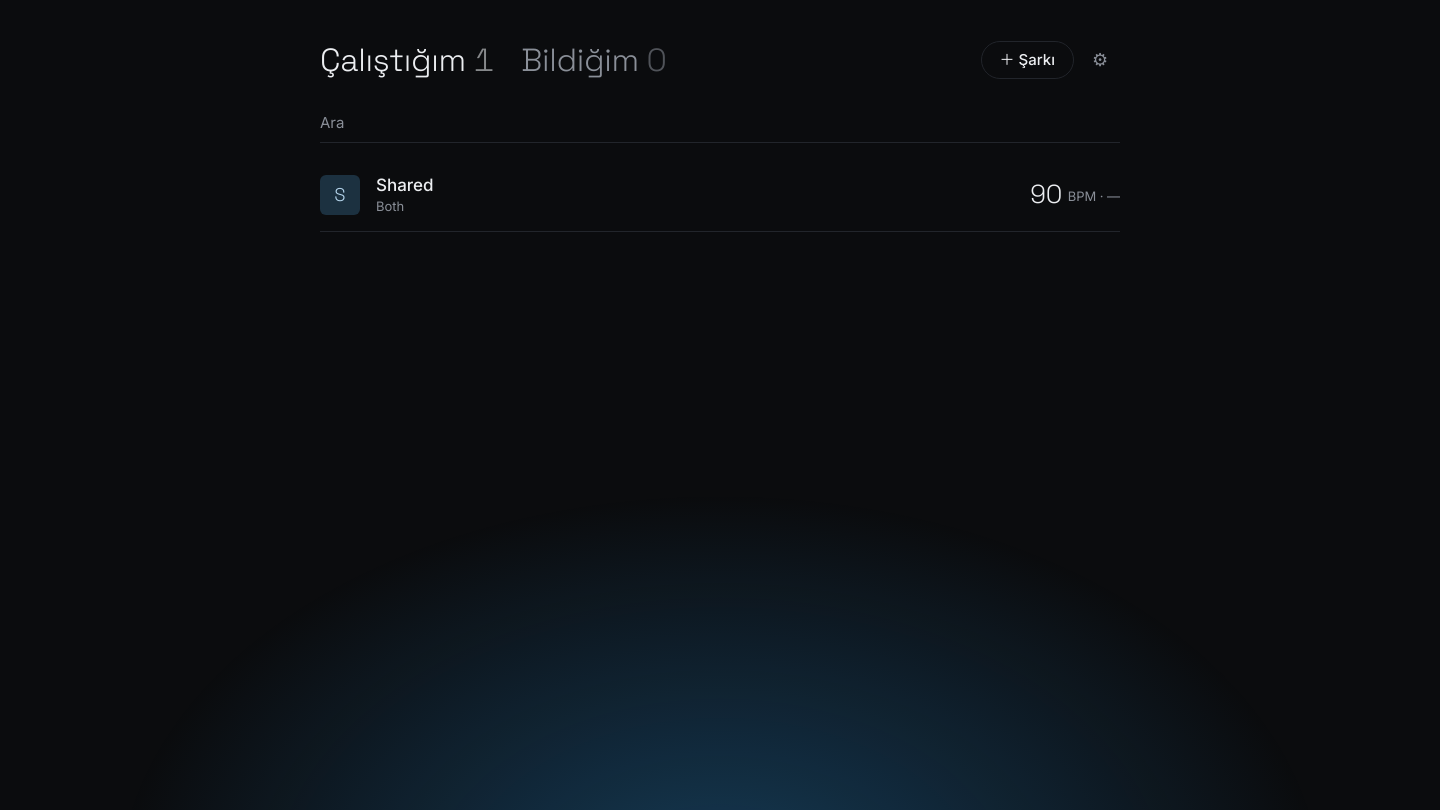
Test case: App › an open song deleted by a sync closes, and does not reopen when a newer copy returns
Later steps or results of the test are not shown.
Click the text "Shared": (405, 185) [376, 175, 434, 195]
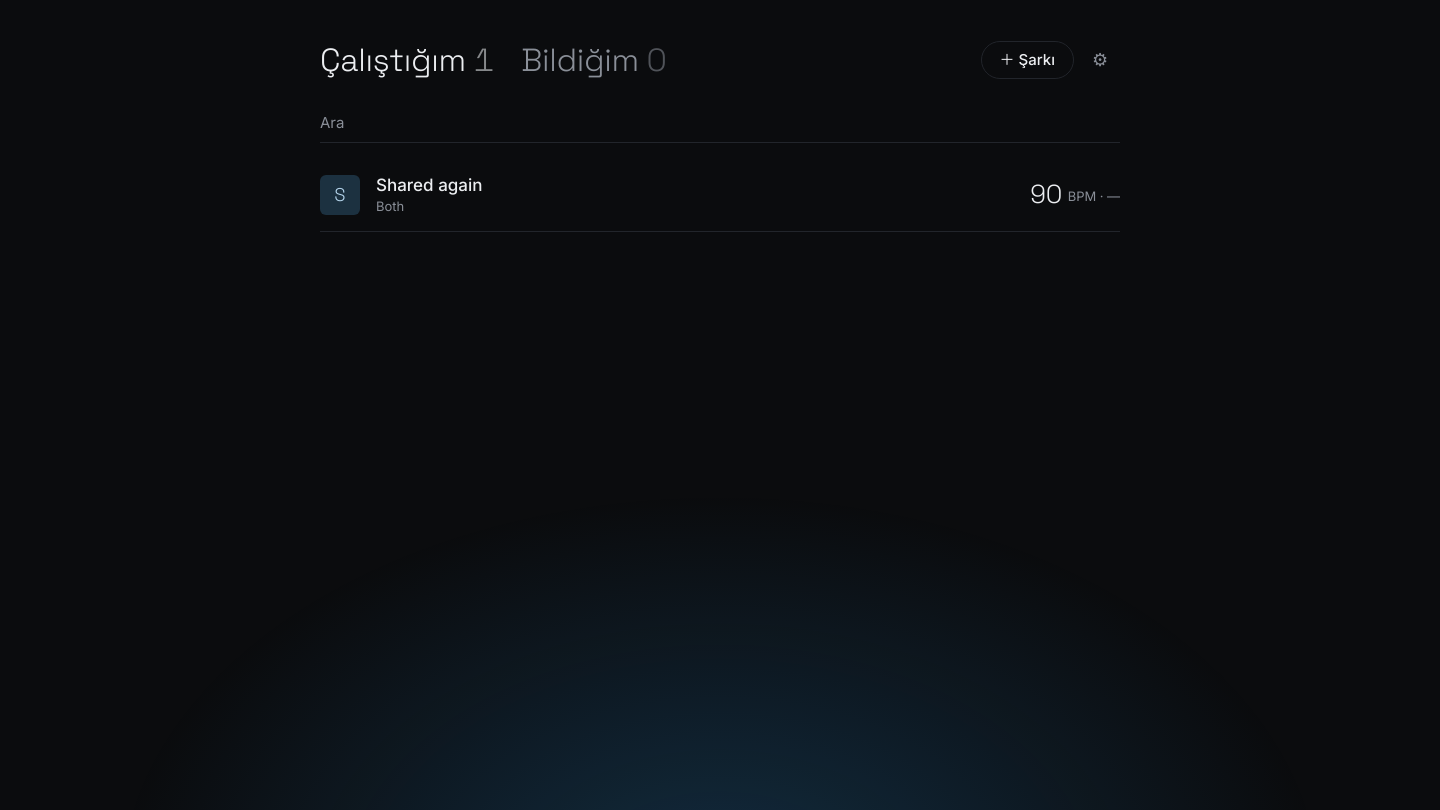
Result: the text "Shared again" is shown at [376, 175, 482, 195]
